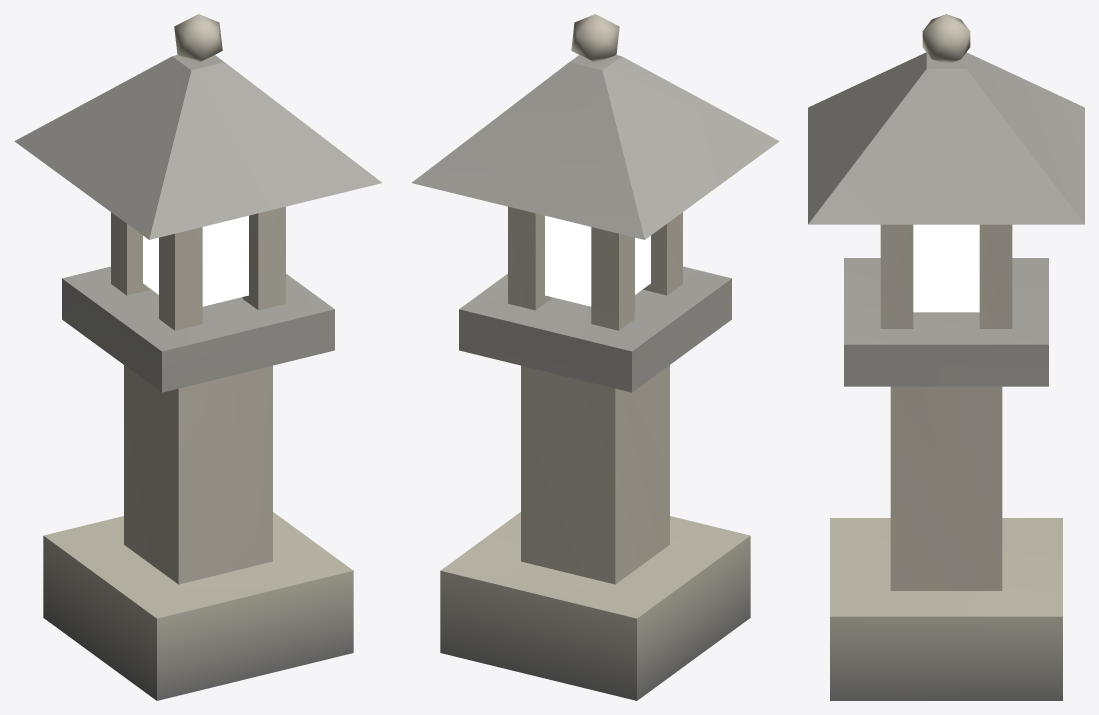
Rendered from stone_lantern.glb.
3 renders of one model, left to right at view 1: azimuth 30°, elevation 25°; view 2: azimuth 150°, elevation 25°; view 3: azimuth 270°, elevation 25°, orthographic. The views are drawn at different scales.
Visible parts, largest first — view 1: Lantern, Glow; view 2: Lantern, Glow; view 3: Lantern, Glow.
Part boxes in pixels (<box>): Lantern: <box>14,14,381,700</box>; Glow: <box>143,215,248,306</box>; Lantern: <box>412,14,779,700</box>; Glow: <box>545,215,650,306</box>; Lantern: <box>808,14,1084,700</box>; Glow: <box>913,224,979,312</box>.
Bounding box in the file's own units: 0.594 × 1.51 × 0.594.
